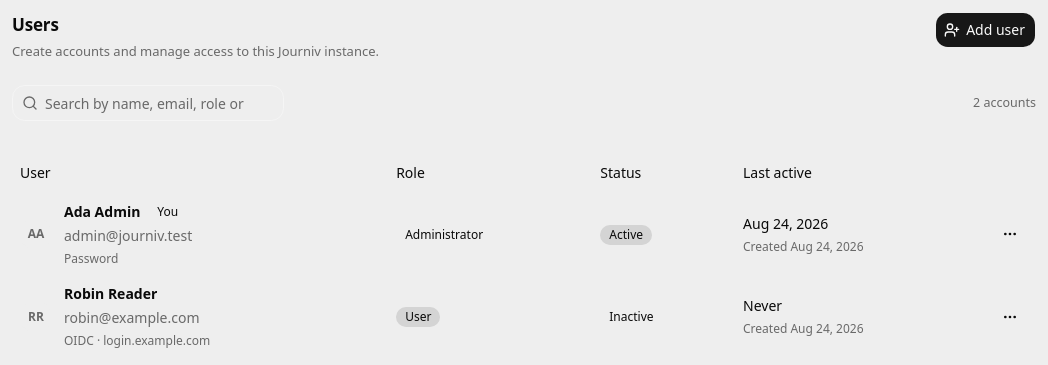
Test: Administration users › renders backend account metadata and filters the complete list locally
The width and height of the screenshot is (1048, 365).
Expected: the text "Ada Admin" is shown, [64, 202, 140, 220]
Expected: the text "robin@example.com" is shown, [64, 308, 210, 328]
Type "OIDC" into the field named "Search users" at (148, 103), box [12, 85, 284, 121]
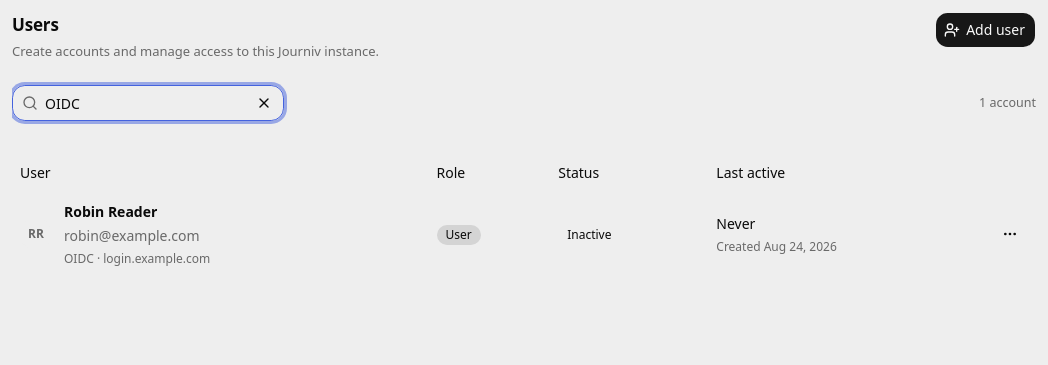
Expected: the text "Robin Reader" is shown, [64, 202, 157, 220]
Expected: the text "Ada Admin" is gone
Expected: the text "1 account" is shown, [979, 94, 1036, 112]
Click the button named "Clear search" at (264, 103), box [248, 87, 280, 119]
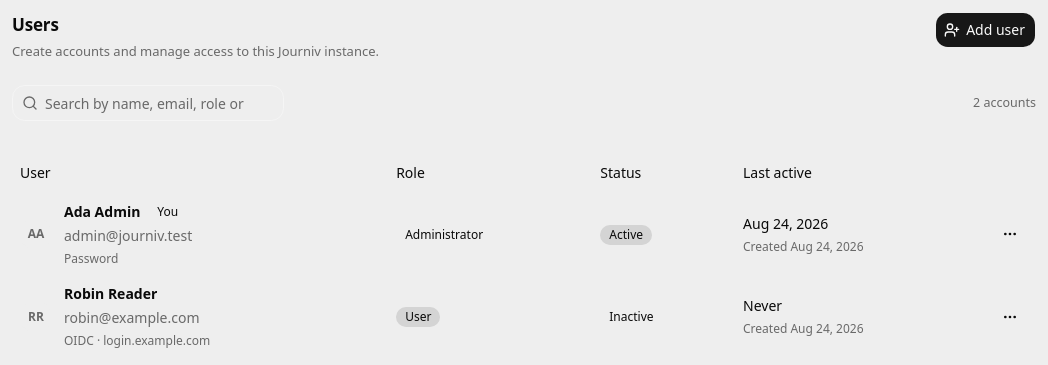
Expected: the text "Ada Admin" is shown, [64, 202, 140, 220]
